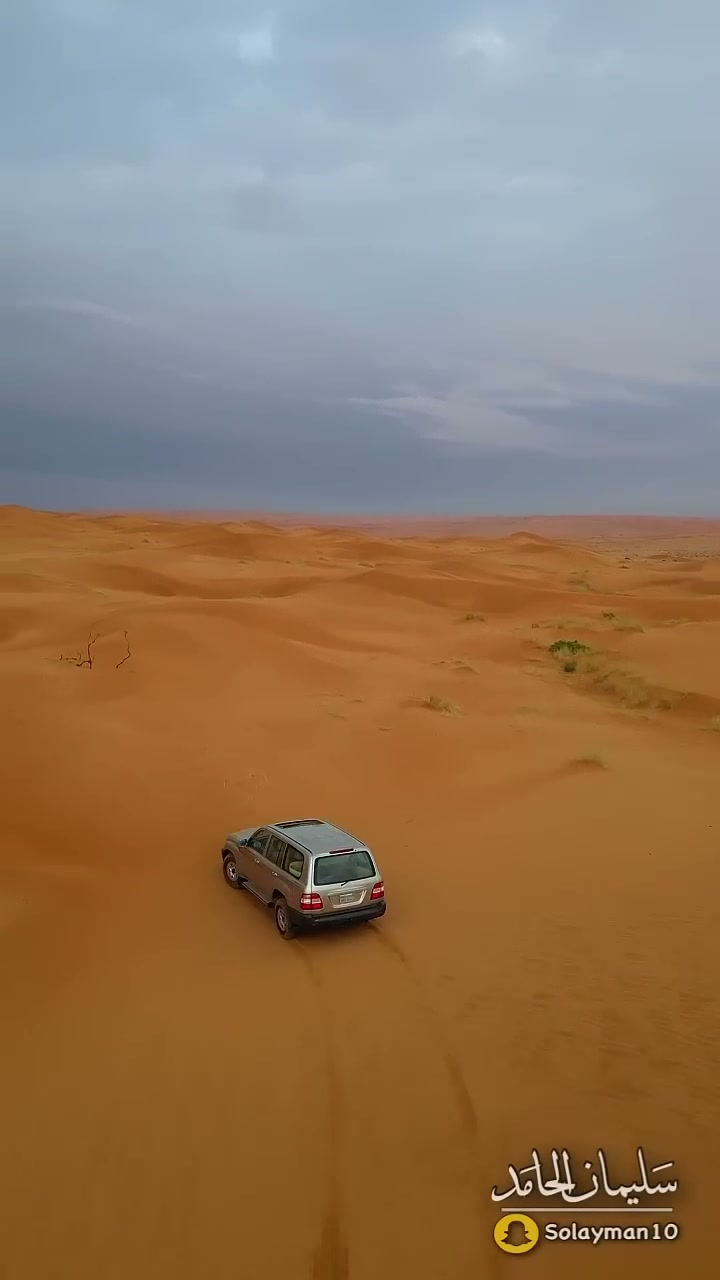vehicle_track: (297, 927, 502, 1279), (371, 929, 501, 1279), (310, 1009, 348, 1279)
